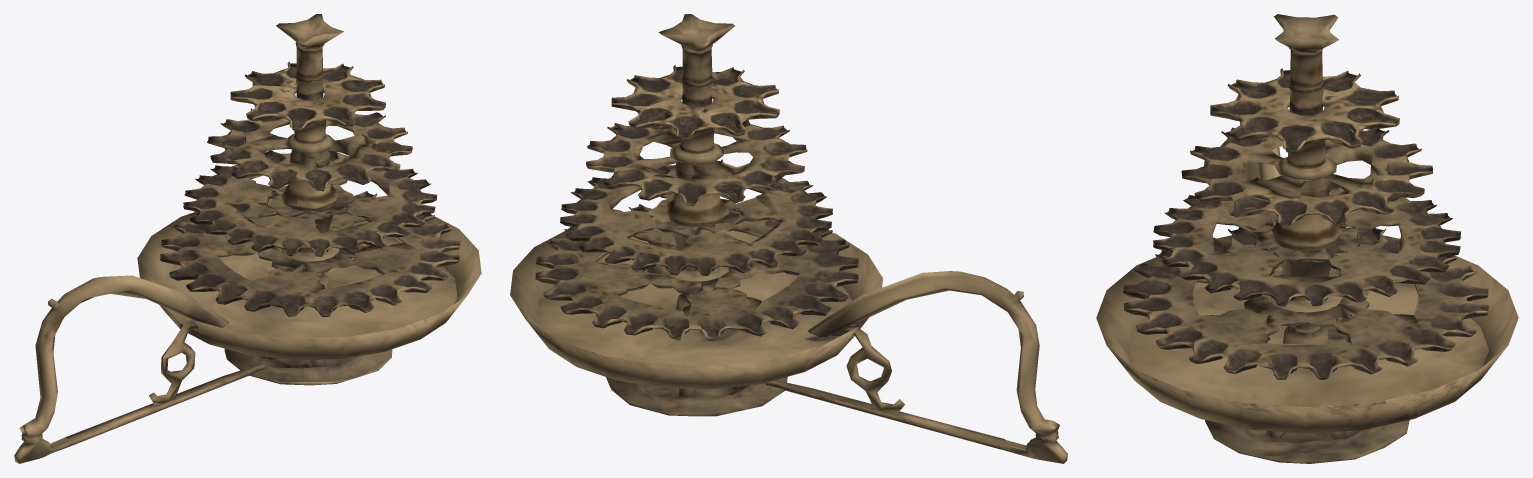
The model's file is traditional.glb.
The picture shows the model from 3 angles, left to right: view 1: azimuth 30°, elevation 25°; view 2: azimuth 150°, elevation 25°; view 3: azimuth 270°, elevation 25°; orthographic projection. The views are drawn at different scales.
Visible parts, largest first — view 1: pPlane67, polySurface8; view 2: pPlane67, polySurface8; view 3: pPlane67, polySurface8.
Part boxes in pixels (left/top/right/bottom): pPlane67: left=160, top=61, right=460, bottom=316; polySurface8: left=14, top=14, right=481, bottom=463; pPlane67: left=535, top=65, right=858, bottom=340; polySurface8: left=510, top=14, right=1067, bottom=463; pPlane67: left=1123, top=68, right=1488, bottom=379; polySurface8: left=1096, top=14, right=1518, bottom=463.
Bounding box in the file's own units: 0.1877 × 0.1306 × 0.1204.
Materials: 2 (2 with a texture image).
